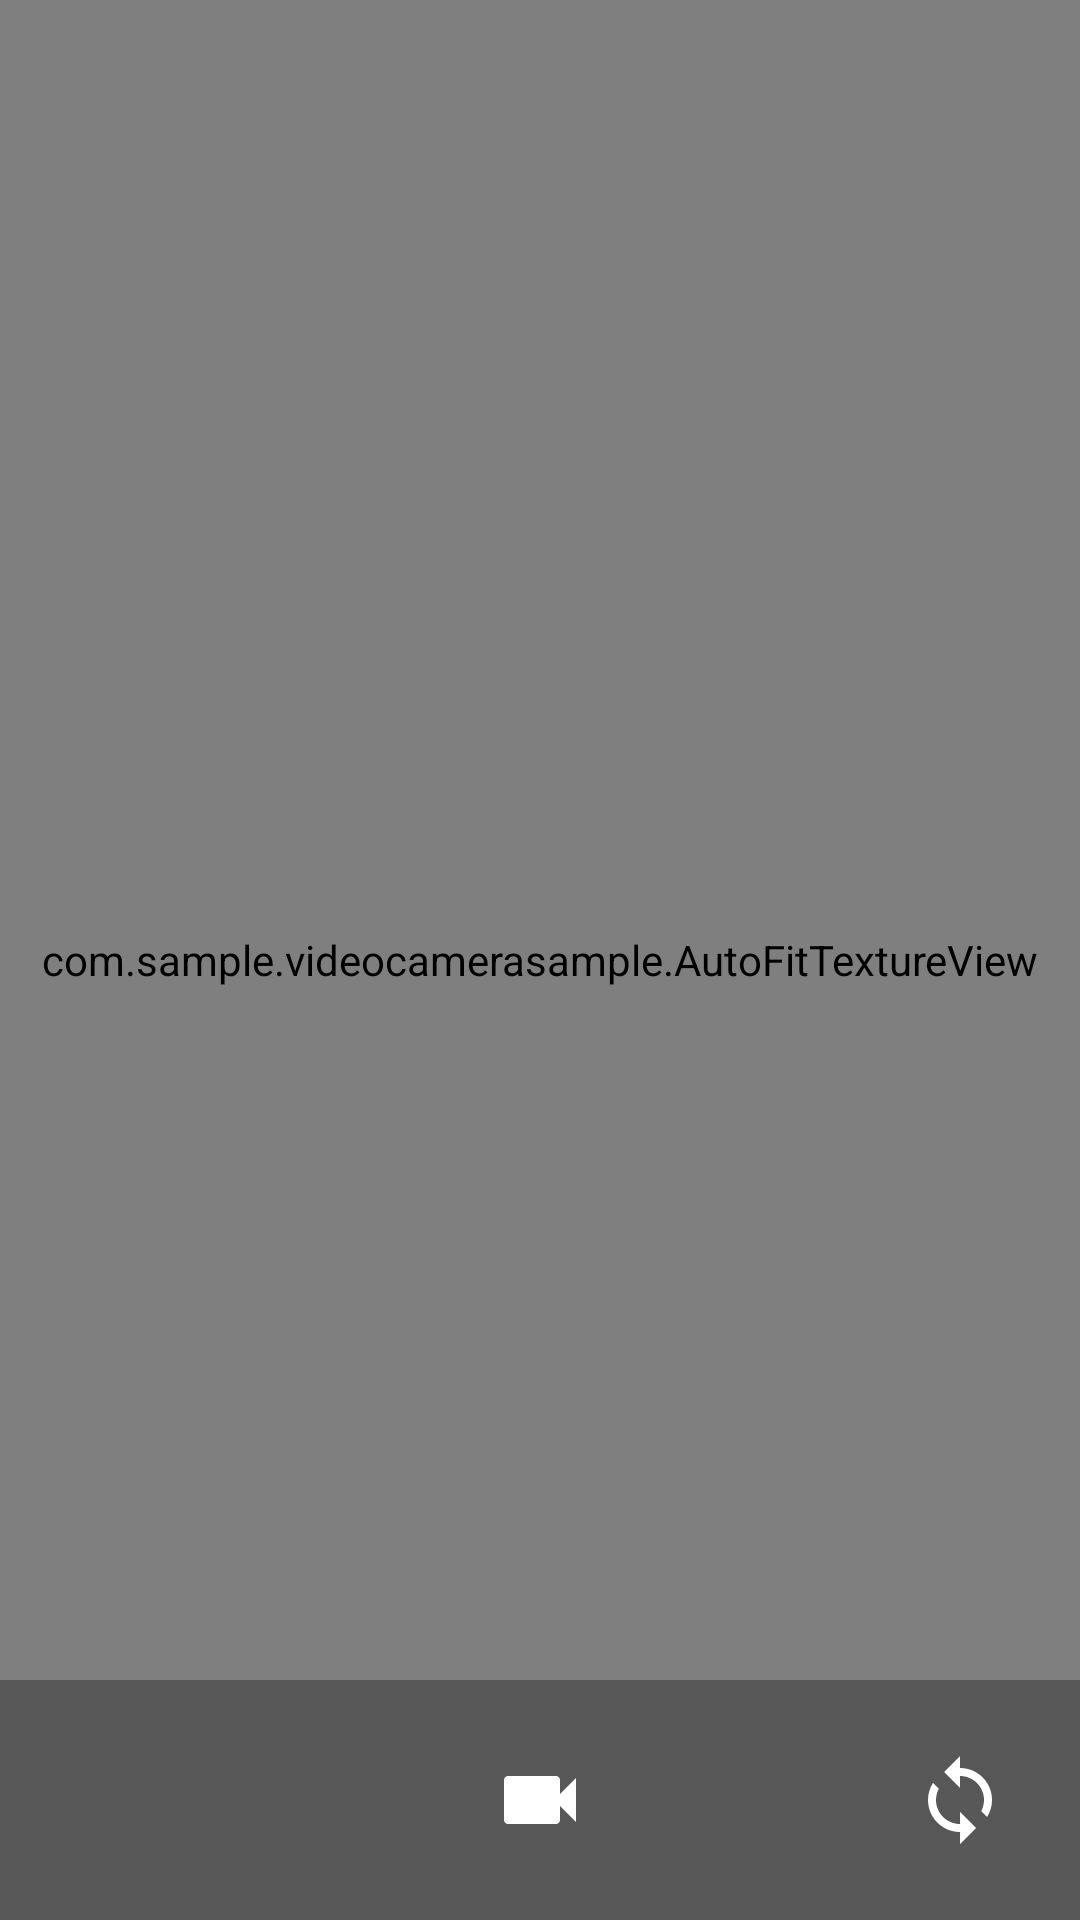

Named icons in this screenshot (1080px x 1920px) and their bounding boxes, Rect(x1, y1, x2, y2):
camera toggle: Rect(928, 1756, 992, 1844)
videocam on: Rect(504, 1776, 576, 1824)
